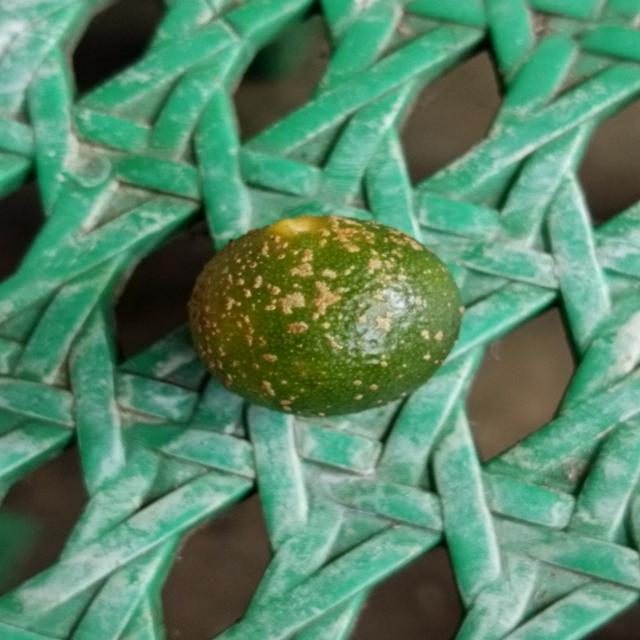scab: (176, 209, 466, 419)
